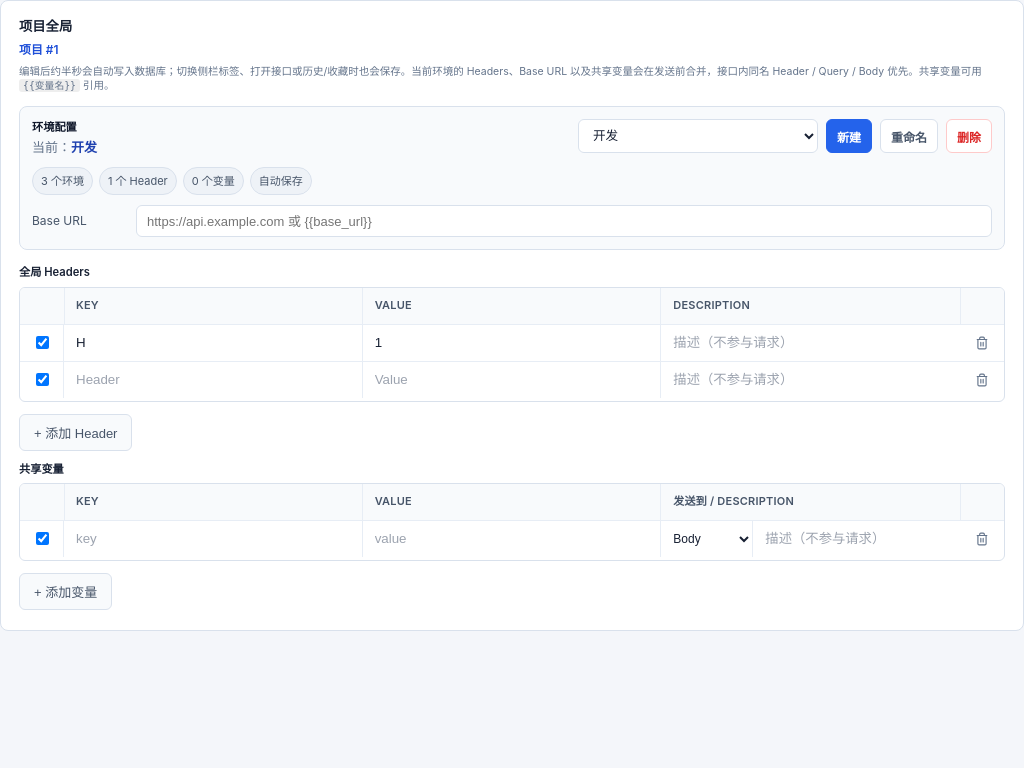
ProjectGlobalsPanel › 新建环境通过名称输入确认后创建并选中
Click the button "新建": (849, 136) [826,119,872,153]
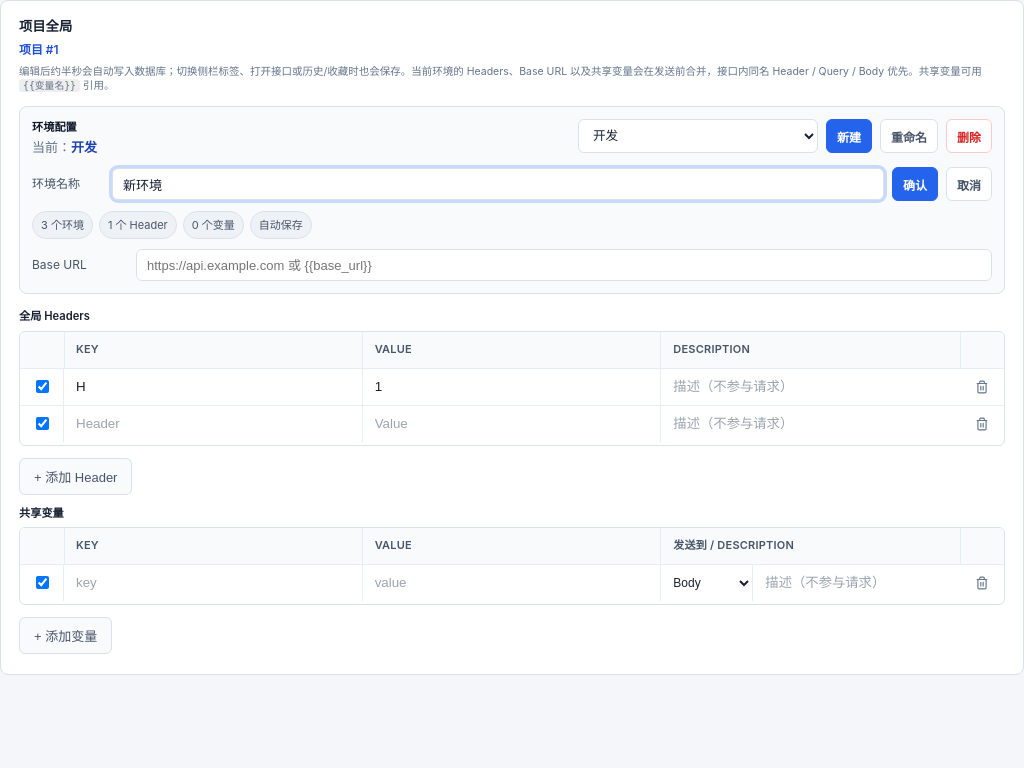
Replace the text in the field labelled "环境名称" with "预发": (498, 184) [112,168,884,200]
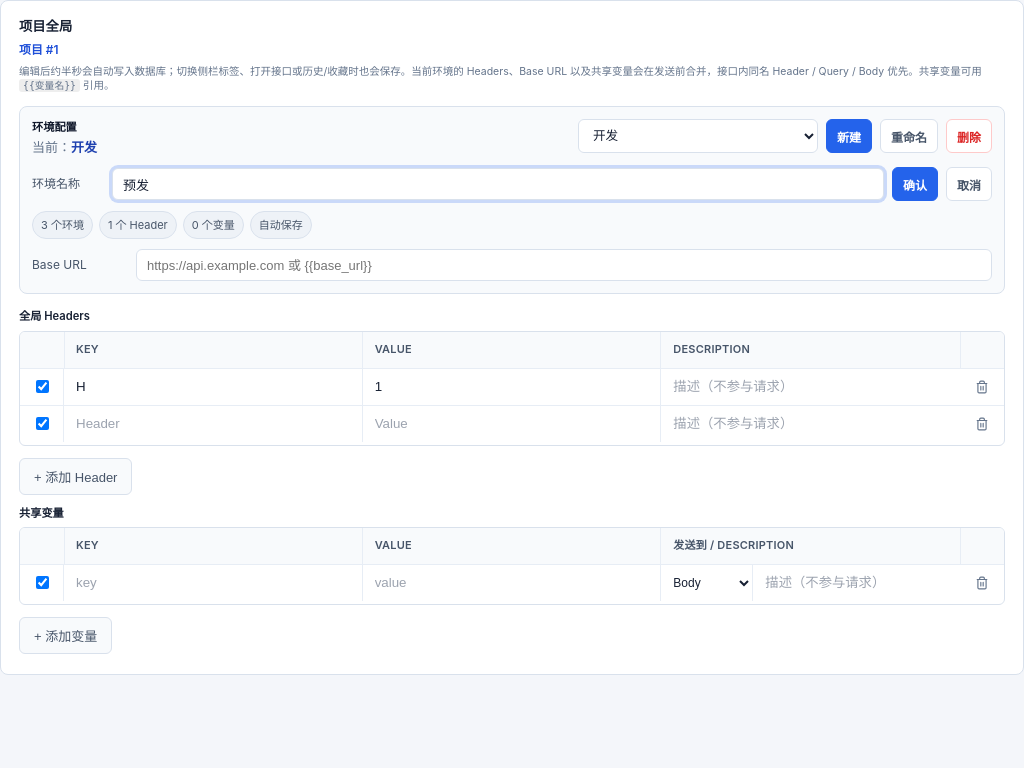
Click the button with aria-label "确认新建环境": (915, 184) [892,168,938,202]
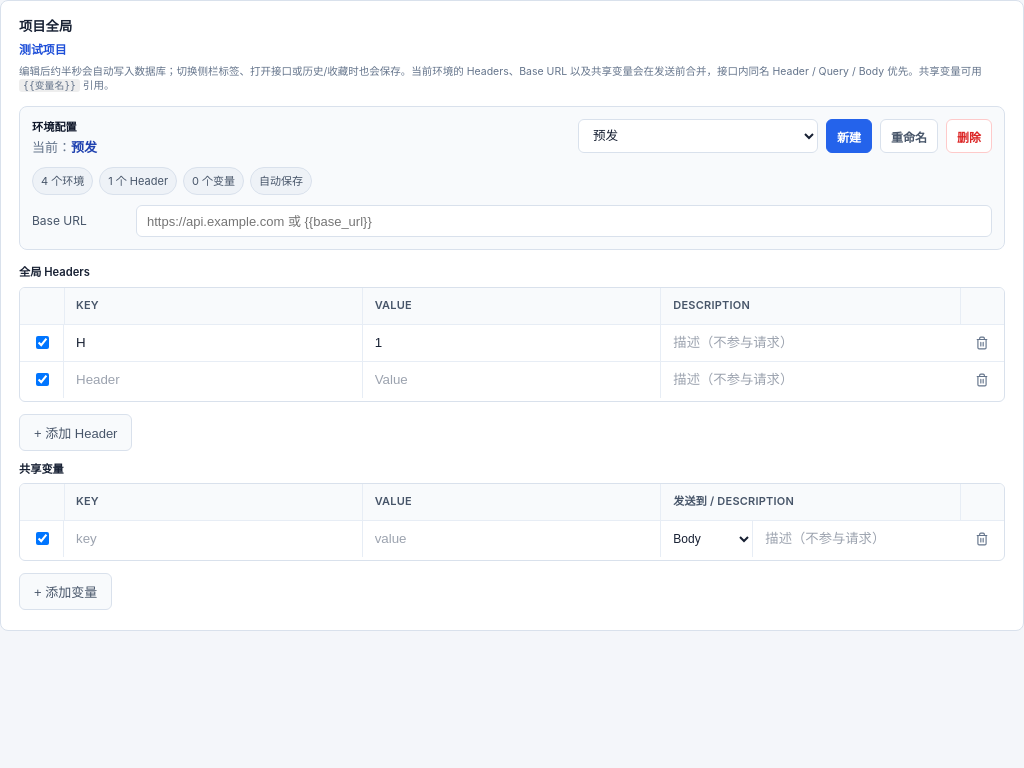
Expected: the dropdown showing "预发" is shown, [578,119,818,153]
